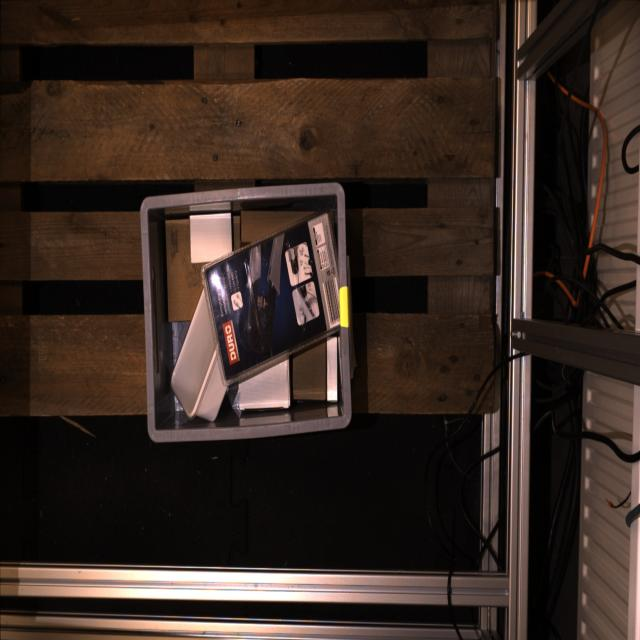CardboardBox: (160, 215, 206, 324), (240, 209, 330, 248), (239, 359, 290, 410), (292, 338, 327, 406), (189, 214, 232, 262), (327, 338, 338, 403), (233, 211, 241, 252)
ItemPackaging: (203, 210, 339, 384)
PlasticContainer: (171, 290, 228, 422)
